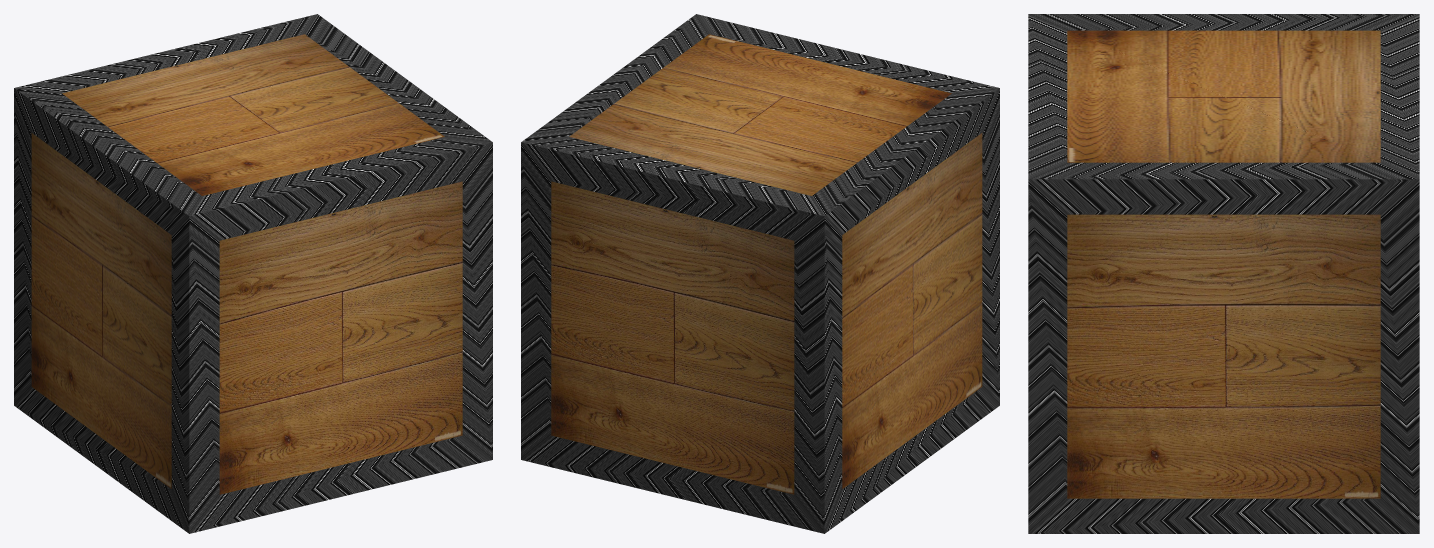
The picture shows the model from 3 angles, left to right: view 1: azimuth 30°, elevation 25°; view 2: azimuth 150°, elevation 25°; view 3: azimuth 270°, elevation 25°; orthographic projection. The views are drawn at different scales.
Parts seen in each view (by area): view 1: Box001; view 2: Box001; view 3: Box001.
Boxes of the visible parts, x1=… form: Box001: x1=14, y1=14, x2=492, y2=533; Box001: x1=521, y1=14, x2=999, y2=533; Box001: x1=1028, y1=14, x2=1419, y2=533.
Bounding box in the file's own units: 10 × 10 × 10.
2 materials, 2 textured.
